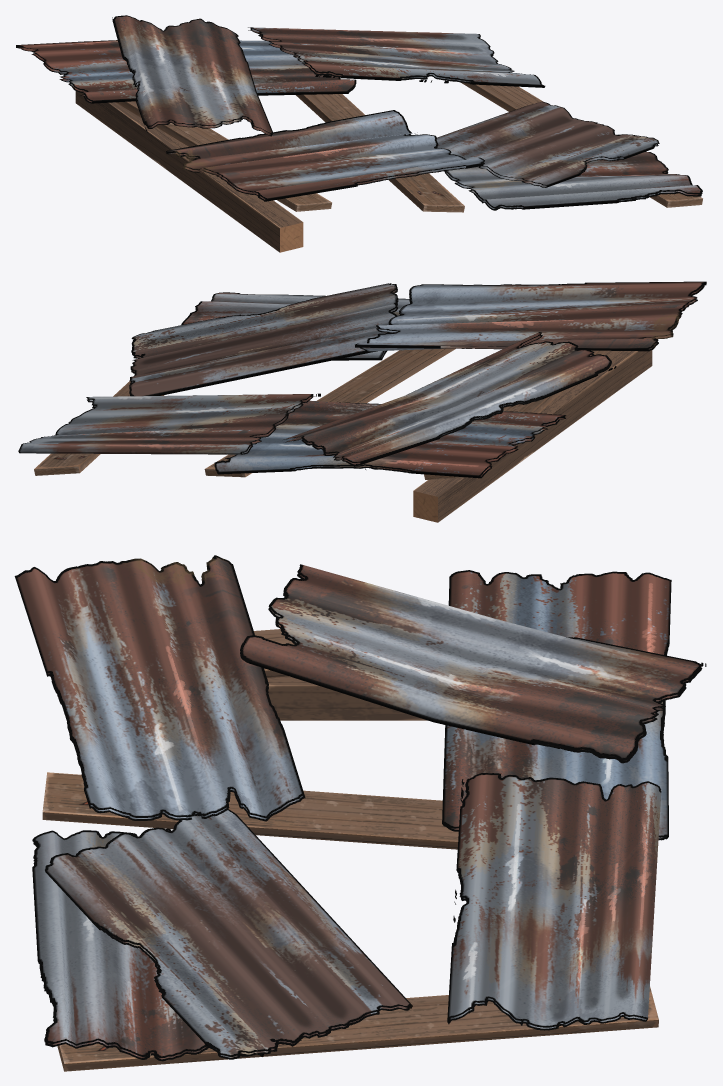
The model's file is roof05_3m_C.fbx.
3 views of the same model, one above another, from view 1: azimuth 30°, elevation 25°; view 2: azimuth 150°, elevation 25°; view 3: azimuth 270°, elevation 25° (orthographic). The views are drawn at different scales.
Visible parts, largest first — view 1: roof05_3m_C; view 2: roof05_3m_C; view 3: roof05_3m_C.
Boxes of the visible parts, x1,y1,x2,y2 form: roof05_3m_C: (16, 15, 702, 252); roof05_3m_C: (18, 281, 706, 522); roof05_3m_C: (14, 555, 706, 1071).
Size of the model in its own units: 429 by 109 by 361.
